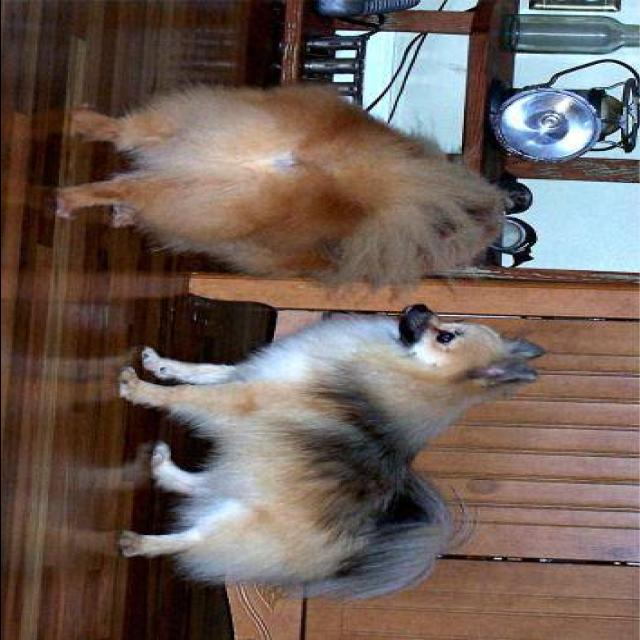dog: (104, 299, 566, 618)
